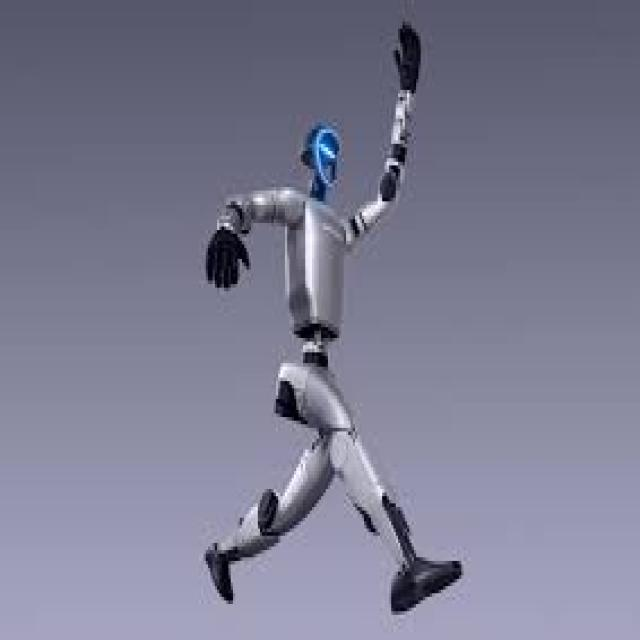humanoid-arm: (384, 18, 425, 180), (202, 200, 247, 288)
humanoid-leg: (352, 472, 462, 616), (207, 470, 279, 606)
